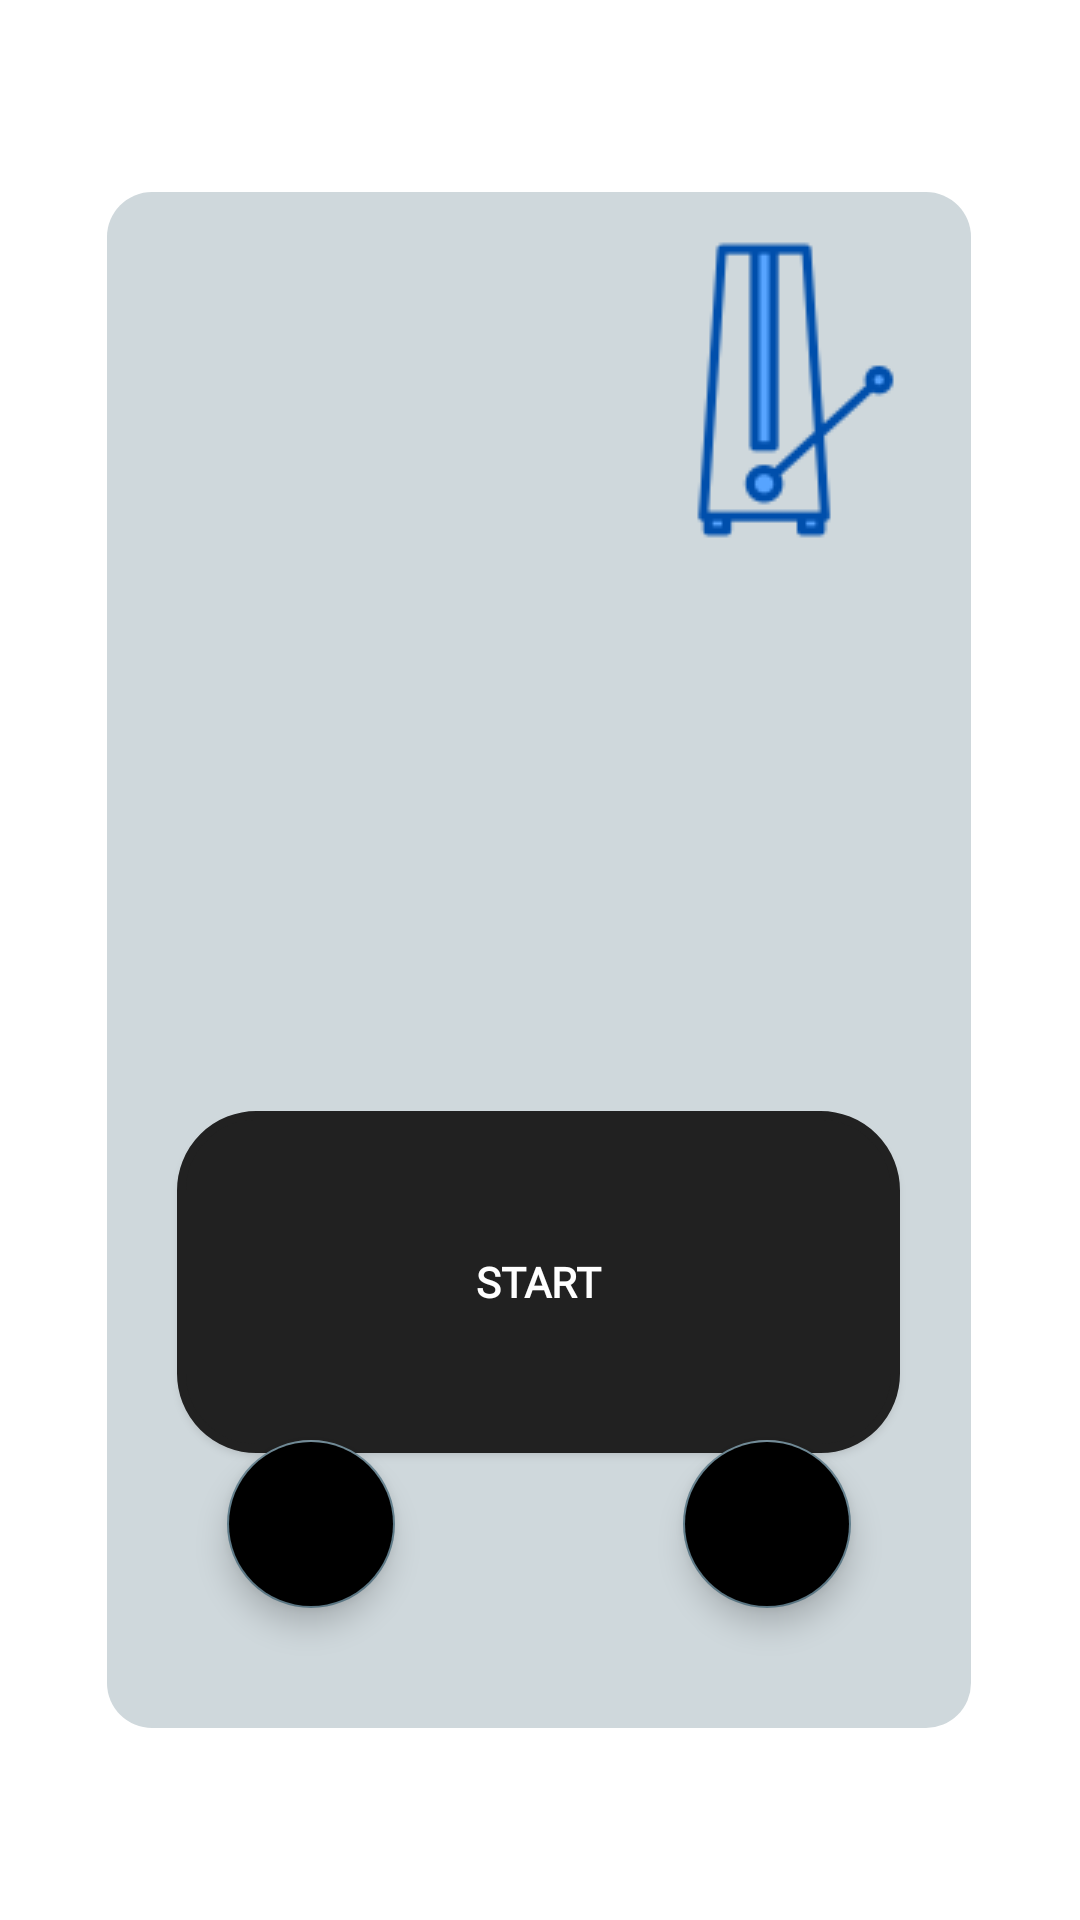

Screen size 1080px×1920px. Icon name, then its center in pixels as (x=x, y=y):
metronome right: (x=795, y=390)
